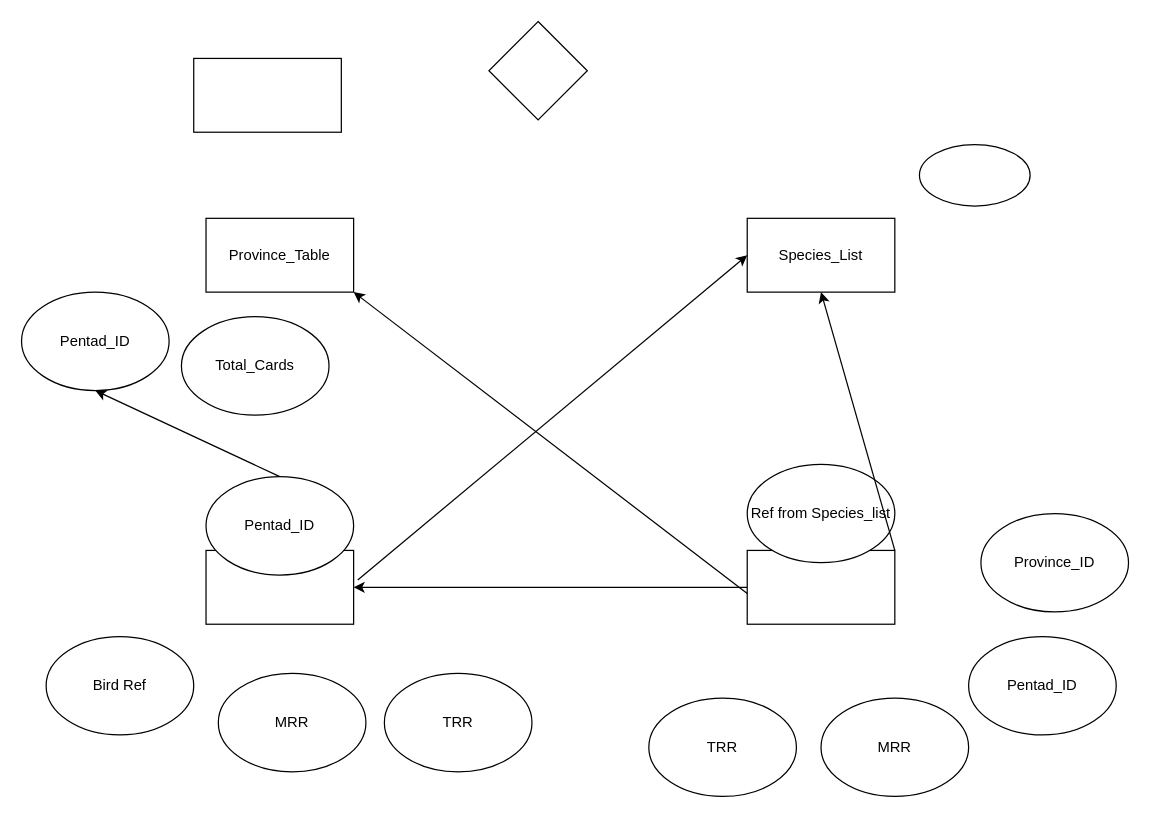
Some shapes in this 1150 by 818 pixel diagram are drawn without their labels. Each missing label, with the centre of its shape:
"All same - Adhoc" belongs at (x=974, y=174).
"Ind_Bird_table" belongs at (x=820, y=586).
"Pentad_Table" belongs at (x=279, y=586).
"province list" belongs at (x=266, y=94).
"Total Area" belongs at (x=537, y=70).
